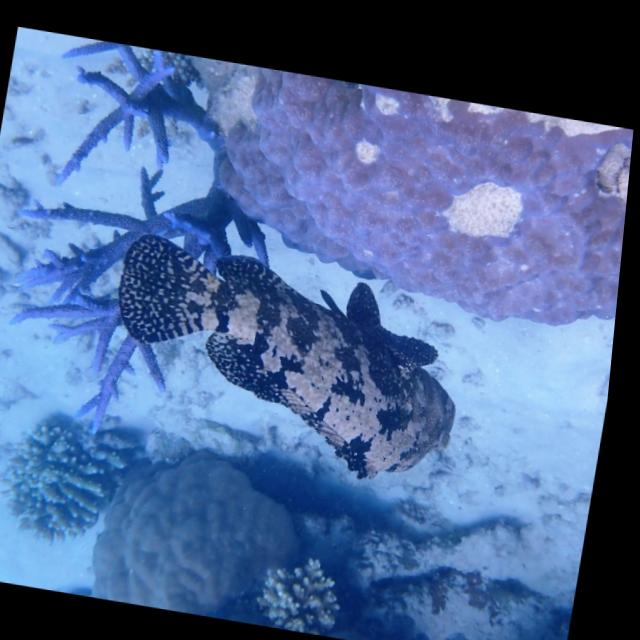Groupers: (90, 229, 479, 494)
